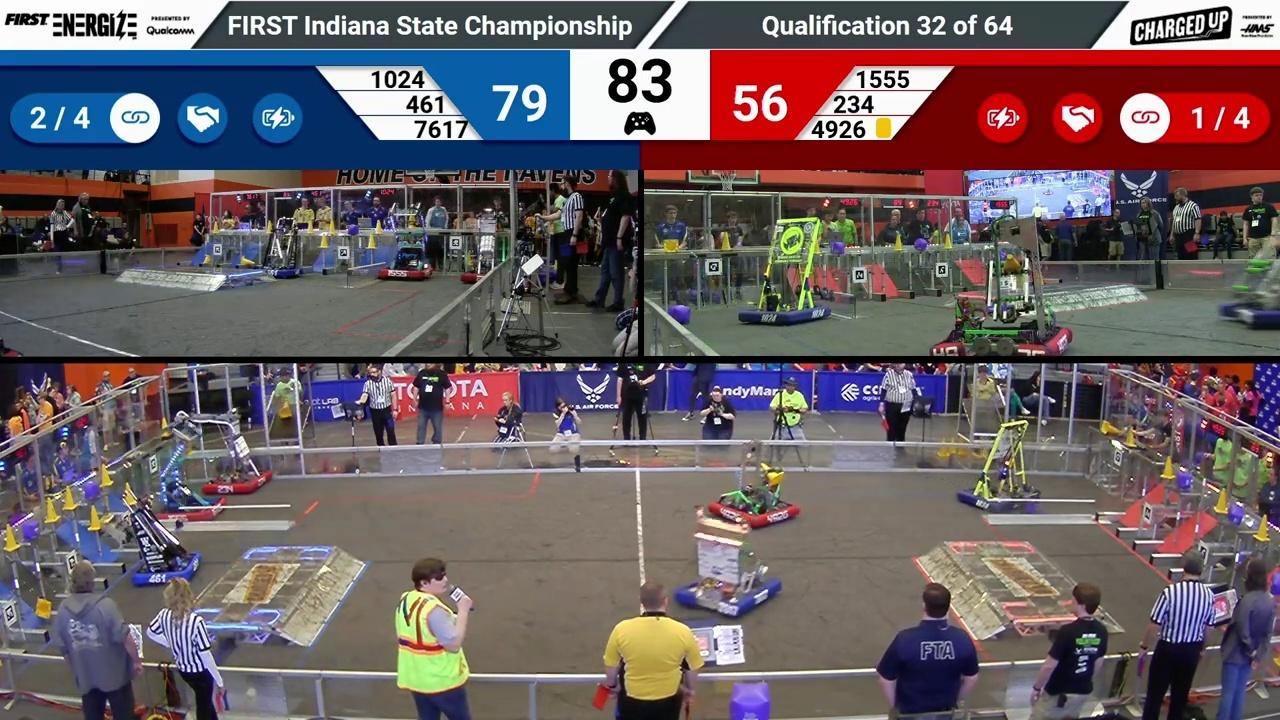robot: (932, 214, 1074, 353), (669, 508, 783, 623), (735, 214, 830, 327), (152, 419, 229, 524), (959, 420, 1042, 515), (710, 451, 800, 531), (196, 411, 275, 496), (130, 504, 202, 588), (459, 218, 508, 288), (257, 221, 304, 282), (380, 229, 434, 282)
